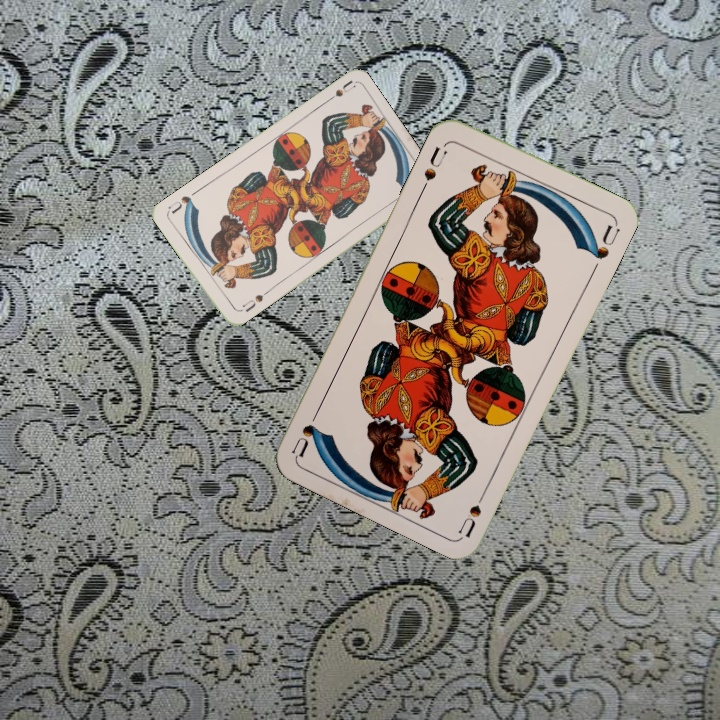SU: (455, 481, 491, 539), (417, 143, 450, 194), (320, 77, 357, 107), (238, 287, 270, 315)
